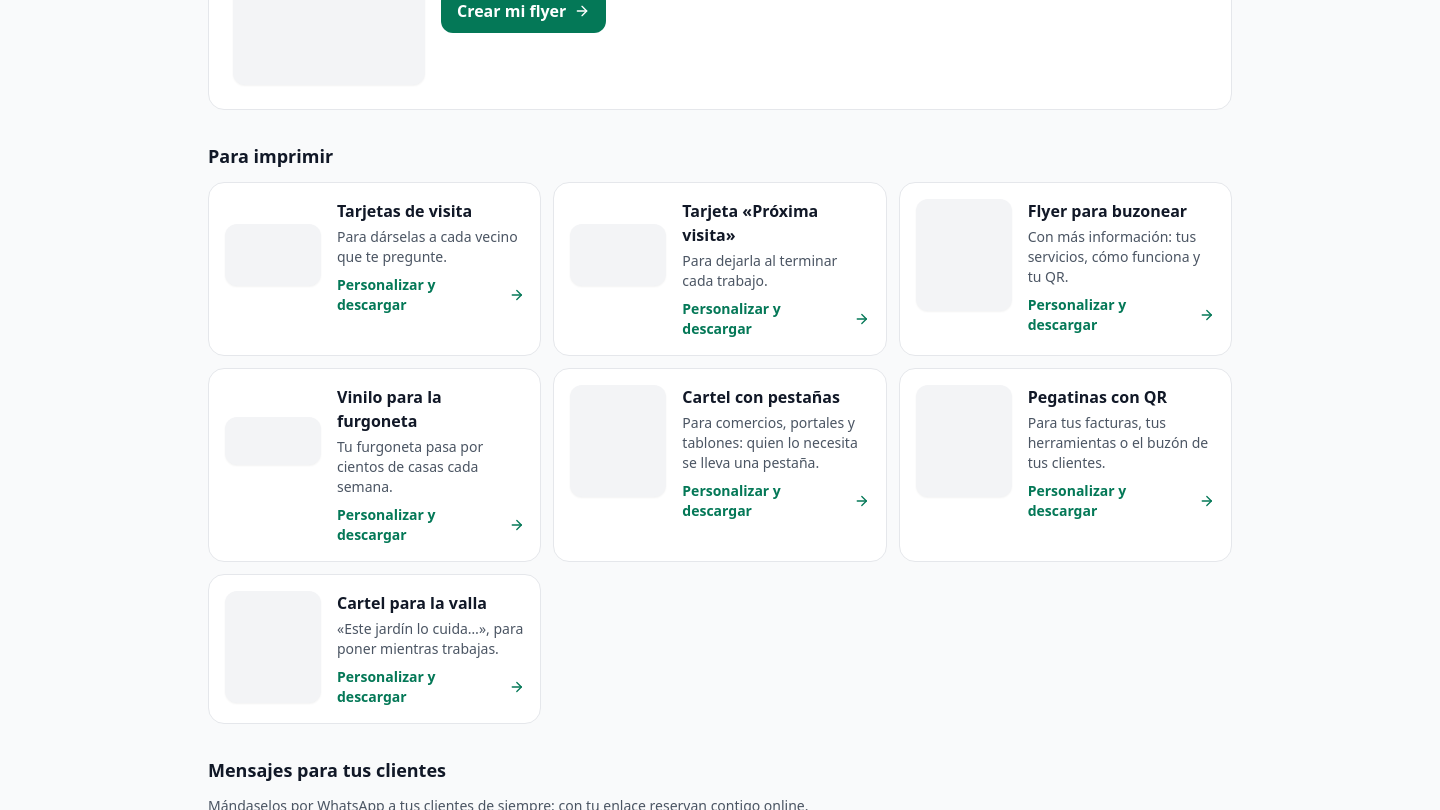
Scenario: MarketingHub › abre el editor de un material y vuelve
(page scrolled)
Click the text "Vinilo para la furgoneta": (389,409) [337,386,442,432]
(page scrolled)
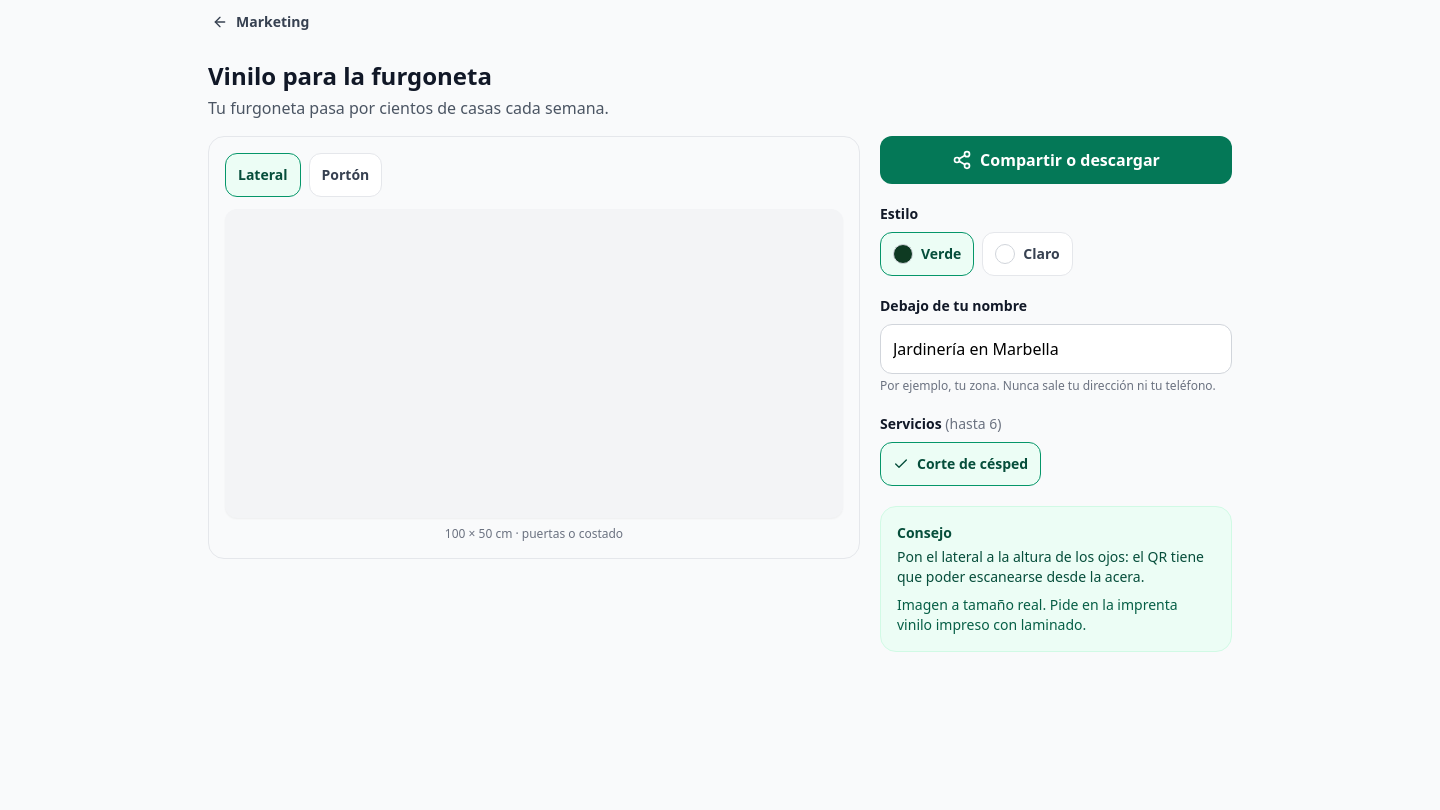
Expected: the heading "Vinilo para la furgoneta" is shown, [208,59,492,92]
Expected: the tab "Lateral" is shown, [225,153,300,197]
Expected: the tab "Portón" is shown, [308,153,382,197]
Click the button "Marketing": (261,22) [208,0,313,44]
(page scrolled)
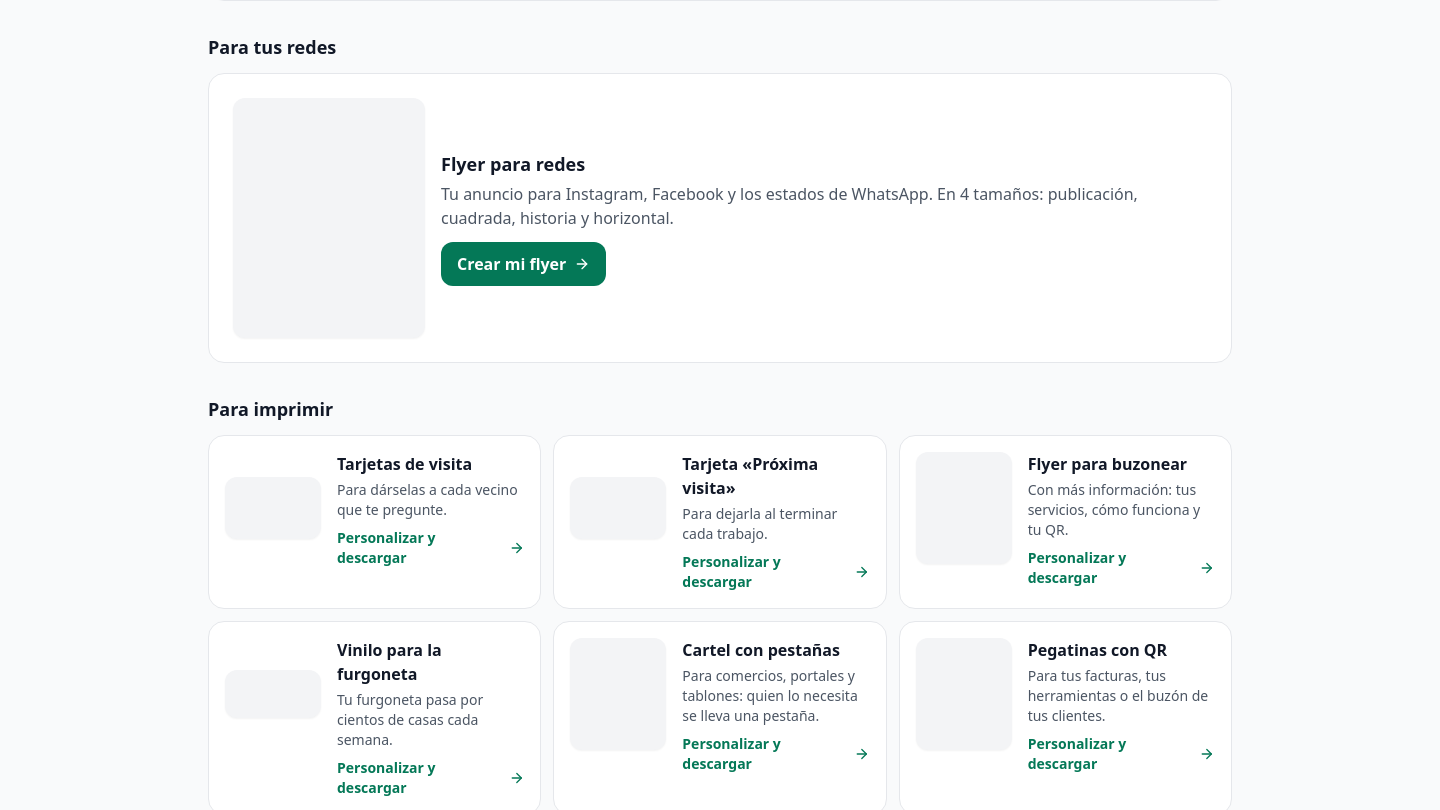
Expected: the heading "Para imprimir" is shown, [208,397,333,421]
